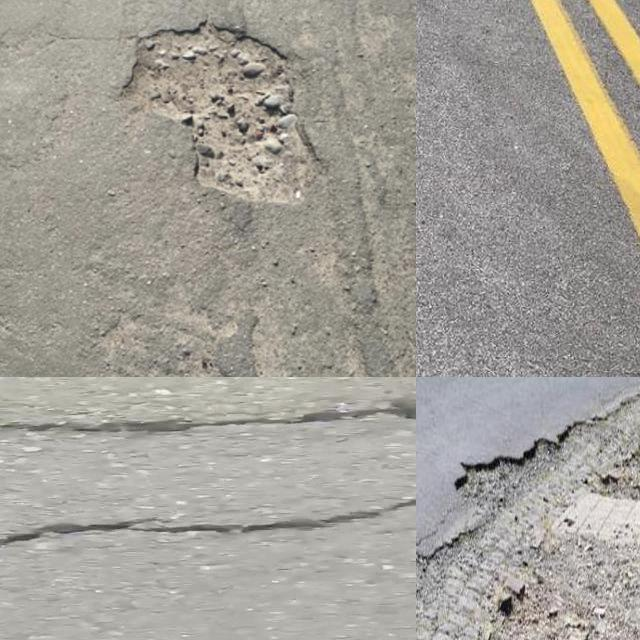Lubang: (115, 28, 330, 210)
Melintang: (0, 488, 416, 564)
Pinggir: (416, 377, 640, 640)
